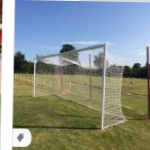goals: (31, 41, 131, 132)
